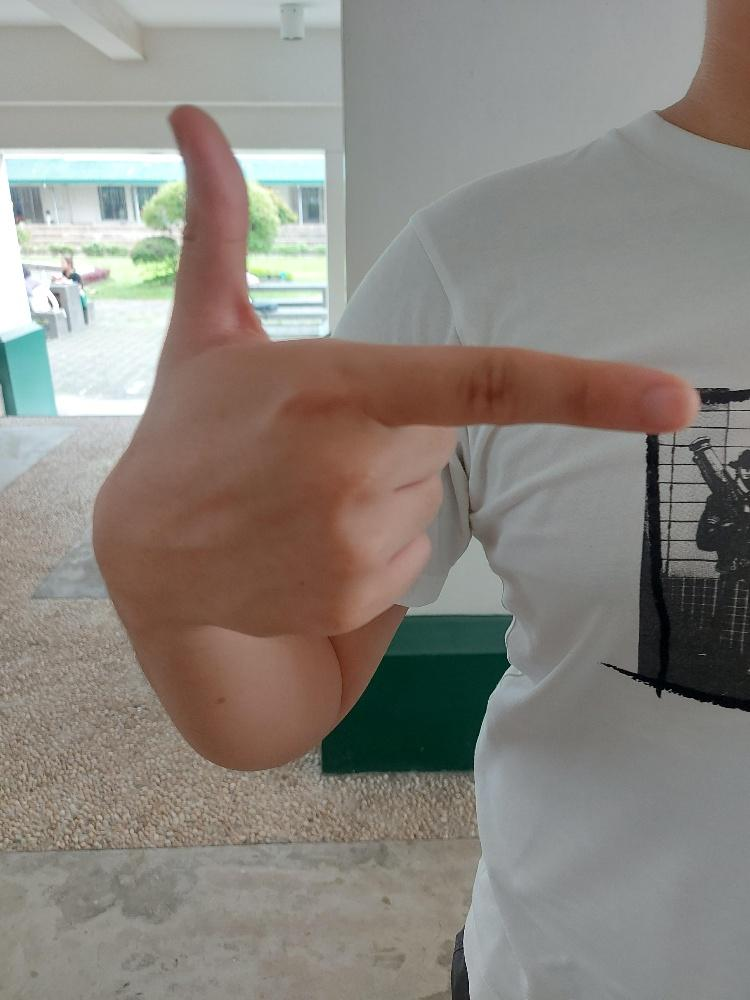g: (87, 96, 699, 641)
